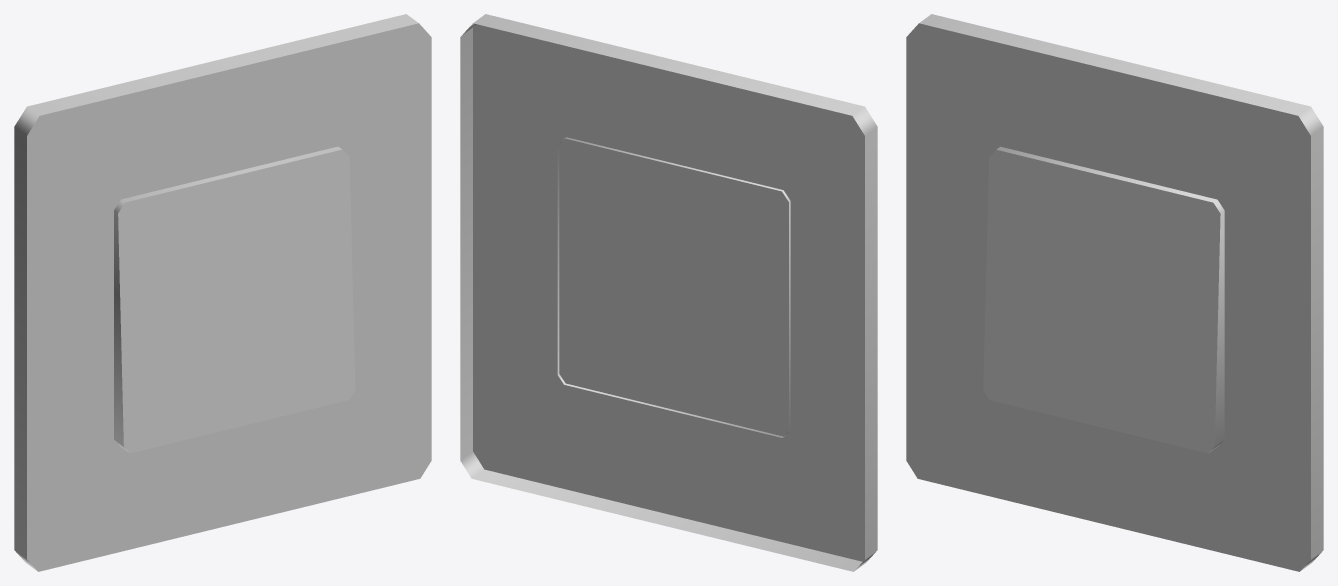
Rendered from LR_Switch02.fbx.
3 renders of one model, left to right at view 1: azimuth 30°, elevation 25°; view 2: azimuth 150°, elevation 25°; view 3: azimuth 330°, elevation 25°, orthographic.
Parts seen in each view (by area): view 1: Switch02; view 2: Switch02; view 3: Switch02.
Boxes of the visible parts, box(x1,y1,x2,y2) form: Switch02: box(14, 14, 431, 571); Switch02: box(460, 14, 877, 571); Switch02: box(906, 14, 1323, 571).
Bounding box in the file's own units: 0.0963 × 0.1037 × 0.00935.
